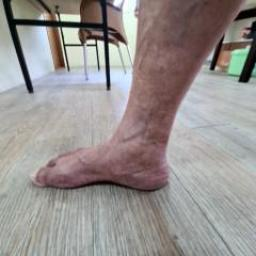Medial View -Right Foot-: (14, 90, 201, 220)
